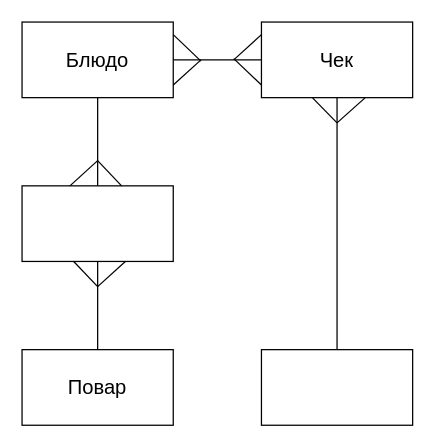
This 435x447 diagram has some shape labels left out. The shapes that lost their labels are listed below. From the top down, each one's centre as x and y in pixels, then its label:
point (97, 223): Заказ на блюдо
point (336, 386): Клиент
